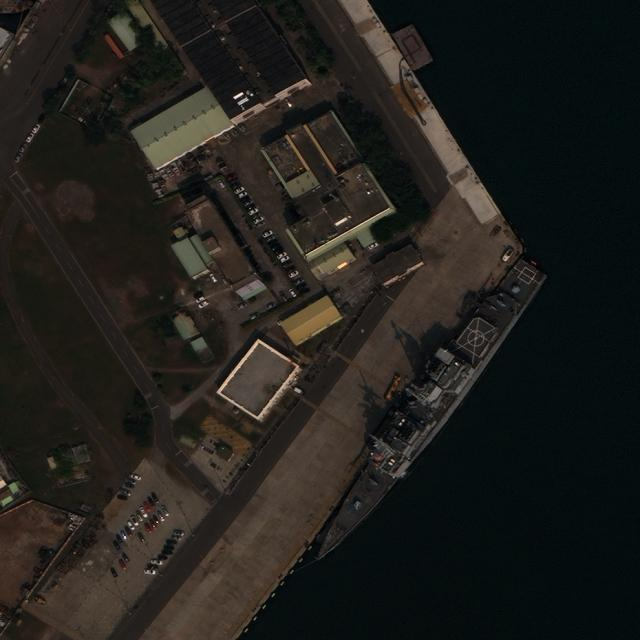Other Warship: (300, 243, 549, 579)
